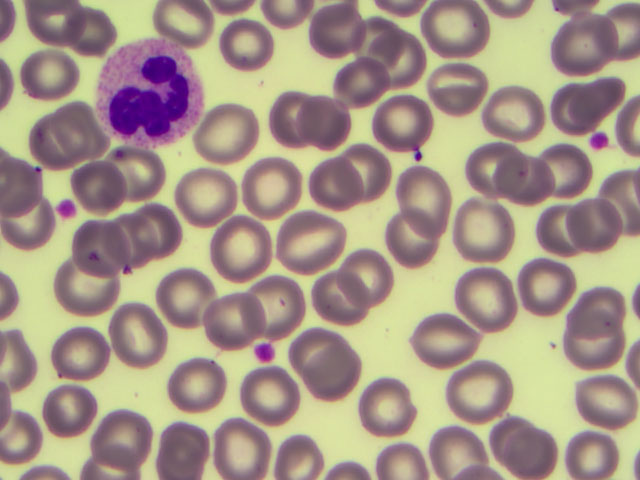RBC: (548, 18, 624, 71), (396, 166, 451, 236), (174, 168, 236, 227), (198, 101, 260, 160), (410, 308, 472, 367), (457, 271, 519, 330), (455, 196, 517, 255), (241, 366, 303, 425), (48, 323, 110, 382), (57, 255, 119, 314), (72, 218, 134, 277), (106, 307, 168, 366), (280, 215, 342, 274), (208, 223, 270, 282), (450, 363, 512, 422), (93, 409, 155, 468), (217, 420, 279, 479), (564, 196, 626, 255), (515, 255, 577, 314), (355, 375, 417, 434), (572, 371, 634, 430), (427, 421, 489, 480), (506, 421, 568, 480), (105, 145, 167, 204), (111, 217, 173, 276), (241, 155, 303, 214), (555, 72, 617, 131), (482, 84, 549, 138), (566, 313, 625, 374), (205, 289, 266, 345), (425, 1, 490, 53), (47, 104, 103, 162), (536, 200, 593, 256), (337, 248, 392, 306), (168, 356, 227, 410), (154, 421, 208, 480), (375, 95, 435, 148), (385, 209, 437, 267), (535, 142, 589, 197), (502, 150, 556, 205), (429, 61, 488, 111), (352, 20, 411, 70), (368, 35, 427, 85), (306, 348, 356, 406), (20, 49, 79, 98), (315, 271, 369, 324), (307, 154, 364, 204), (289, 326, 343, 378), (464, 140, 516, 194), (573, 283, 625, 337), (298, 95, 349, 148), (43, 388, 97, 437), (598, 168, 640, 231), (311, 6, 363, 56), (219, 21, 273, 68), (2, 196, 53, 245), (332, 62, 390, 105), (1, 408, 44, 464), (151, 1, 208, 43), (1, 158, 44, 212), (74, 165, 124, 210), (494, 418, 539, 467), (371, 442, 427, 480), (71, 9, 116, 55), (1, 332, 35, 387), (613, 92, 640, 159), (254, 1, 312, 29), (1, 268, 19, 321)
WBC: (97, 47, 203, 148)
